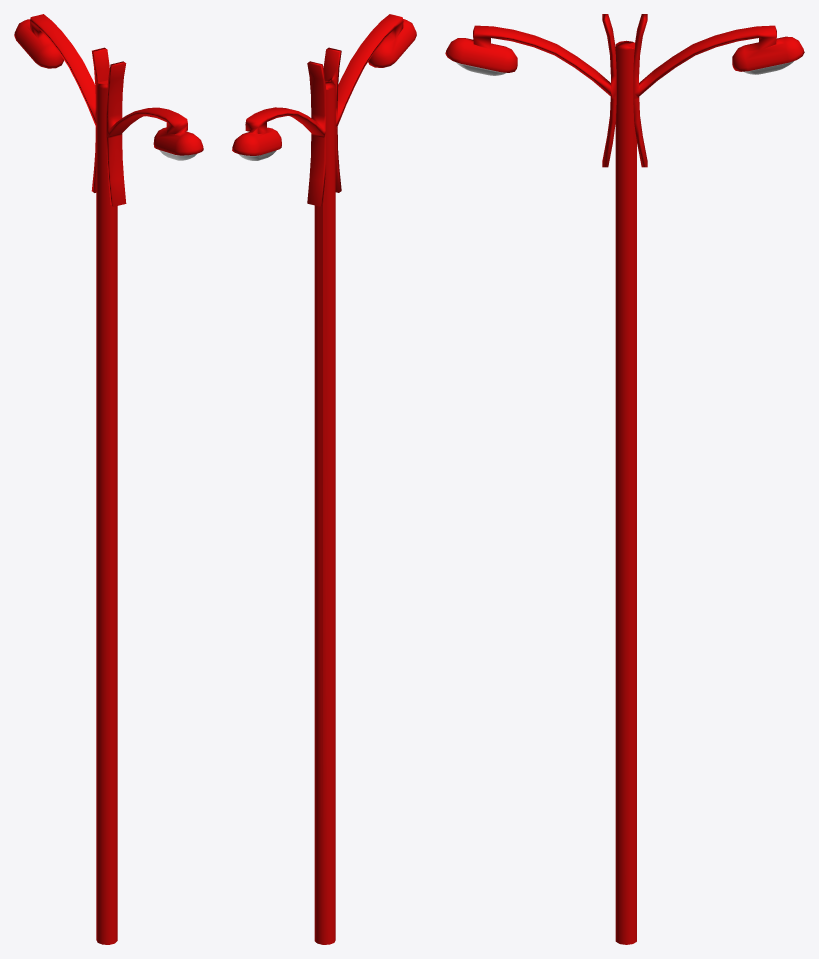
The model's file is Side_Lamp_2.fbx.
3 renders of one model, left to right at view 1: azimuth 30°, elevation 25°; view 2: azimuth 150°, elevation 25°; view 3: azimuth 270°, elevation 25°, orthographic. The views are drawn at different scales.
Parts seen in each view (by area): view 1: Side_Lamp_2; view 2: Side_Lamp_2; view 3: Side_Lamp_2.
Part boxes in pixels (x1,y1,x2,y2): Side_Lamp_2: (14,14,203,944); Side_Lamp_2: (232,14,416,944); Side_Lamp_2: (445,14,804,944).
Bounding box in the file's own units: 0.8625 × 25.44 × 8.97.
